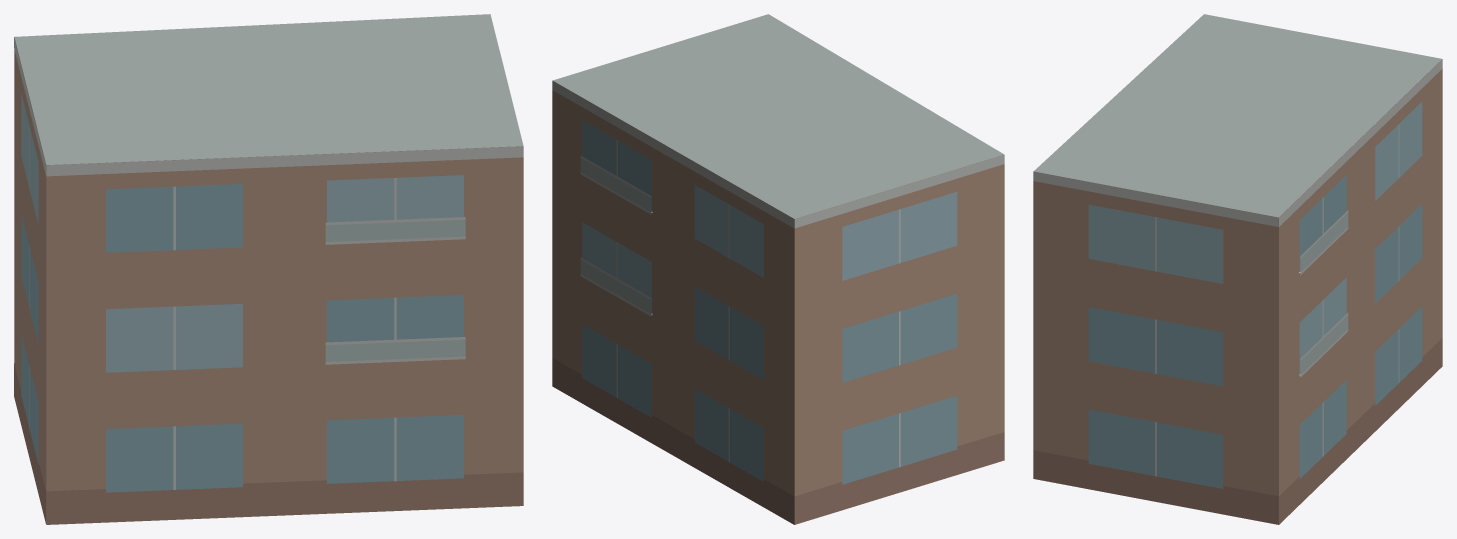
Rendered from survey-upis-32961734.glb.
3 renders of one model, left to right at view 1: azimuth 30°, elevation 25°; view 2: azimuth 150°, elevation 25°; view 3: azimuth 270°, elevation 25°, orthographic. The views are drawn at different scales.
Visible parts, largest first — view 1: survey-upis-32961734.tmp; view 2: survey-upis-32961734.tmp; view 3: survey-upis-32961734.tmp.
Part boxes in pixels (x1,y1,x2,y2): survey-upis-32961734.tmp: [14, 14, 523, 524]; survey-upis-32961734.tmp: [552, 14, 1004, 524]; survey-upis-32961734.tmp: [1033, 14, 1442, 524].
Size of the model in its own units: 11.08 by 7.8 by 9.42.
